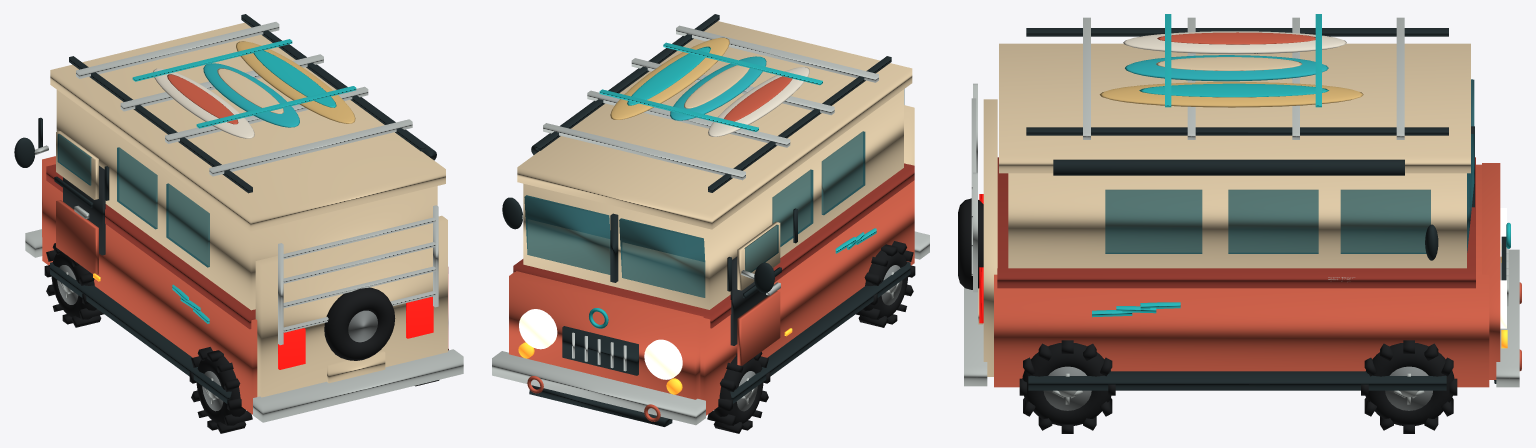
Rendered from surf-van-premium.glb.
The picture shows the model from 3 angles, left to right: view 1: azimuth 30°, elevation 25°; view 2: azimuth 150°, elevation 25°; view 3: azimuth 270°, elevation 25°; orthographic projection. The views are drawn at different scales.
Visible parts, largest first — view 1: VanBody.render, Door.Driver.render, Wheel.RL.render, Wheel.FL.render, BrakeLights.render; view 2: VanBody.render, Door.Driver.render, Headlights.render, Wheel.FL.render, Wheel.RL.render; view 3: VanBody.render, Wheel.FR.render, Wheel.RR.render, Headlights.render.
Boxes of the visible parts, <box> form: VanBody.render: <box>25,14,463,422</box>; Door.Driver.render: <box>14,117,109,281</box>; Wheel.RL.render: <box>189,347,252,433</box>; Wheel.FL.render: <box>44,243,103,327</box>; BrakeLights.render: <box>278,297,433,369</box>; VanBody.render: <box>492,14,929,426</box>; Door.Driver.render: <box>727,208,797,365</box>; Headlights.render: <box>518,309,682,394</box>; Wheel.FL.render: <box>707,352,770,433</box>; Wheel.RL.render: <box>856,241,915,327</box>; VanBody.render: <box>958,14,1521,390</box>; Wheel.FR.render: <box>1361,340,1457,433</box>; Wheel.RR.render: <box>1019,340,1115,433</box>; Headlights.render: <box>1500,208,1507,348</box>.
Bounding box in the file's own units: 4.48 × 4.11 × 6.74.
